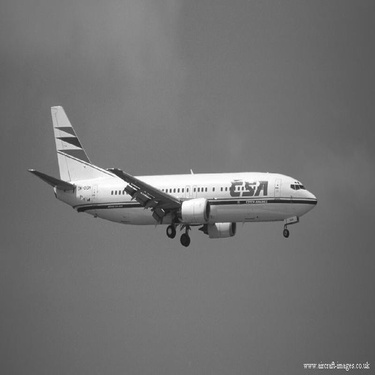airplane: (24, 98, 319, 252)
